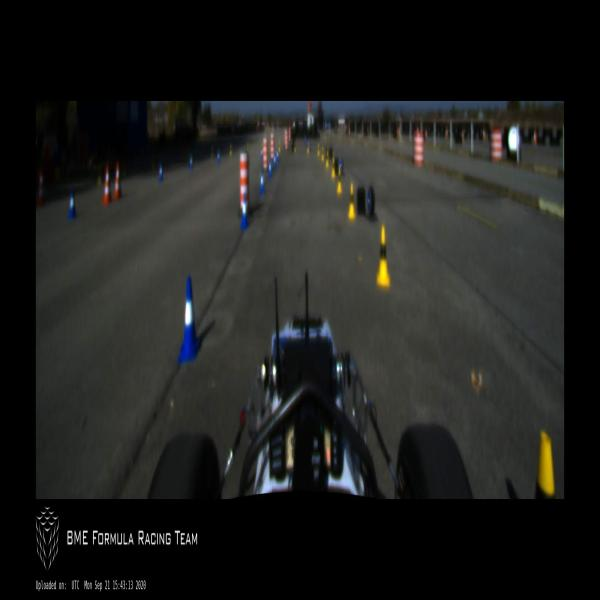blue_cone: (178, 276, 200, 362), (240, 193, 248, 230), (68, 190, 76, 220), (260, 168, 264, 194), (158, 162, 163, 182), (268, 160, 272, 178), (273, 152, 276, 170), (190, 155, 193, 170), (217, 149, 220, 163), (276, 150, 279, 163), (260, 147, 263, 158)
large_orange_cone: (102, 163, 112, 205), (113, 160, 122, 201), (38, 169, 46, 205)
yellow_cone: (536, 428, 556, 497), (376, 225, 391, 287), (347, 183, 356, 219), (336, 168, 342, 194), (98, 167, 102, 185), (325, 150, 329, 167), (332, 157, 335, 178), (317, 143, 320, 156), (211, 147, 214, 159), (246, 142, 249, 154), (322, 147, 324, 162), (230, 143, 232, 157), (307, 141, 309, 153), (294, 141, 296, 153), (278, 141, 280, 153)
